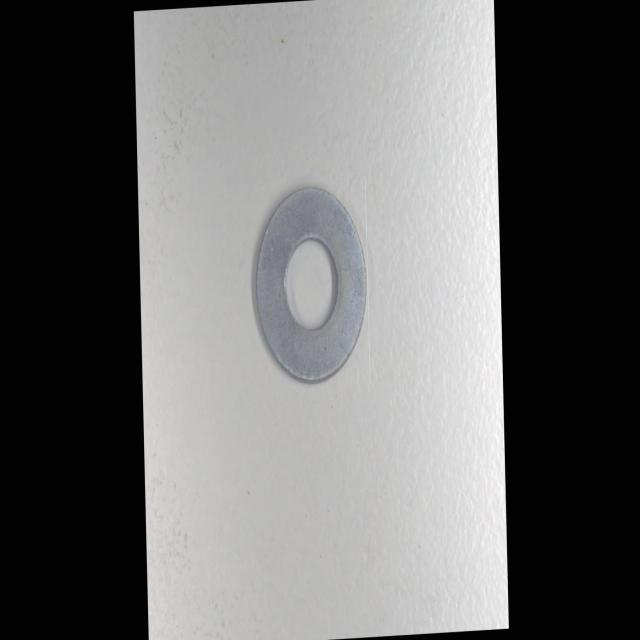washer: (250, 179, 368, 386)
